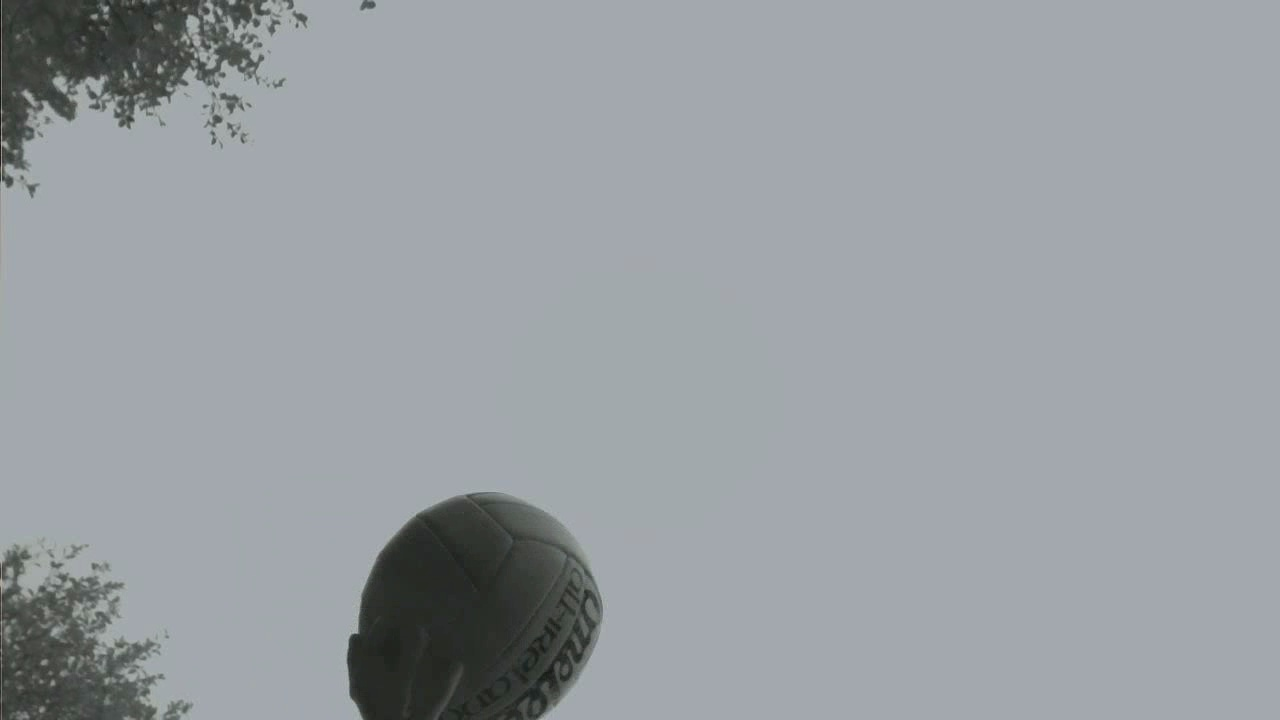Football-Spotter: (359, 492, 603, 719)
